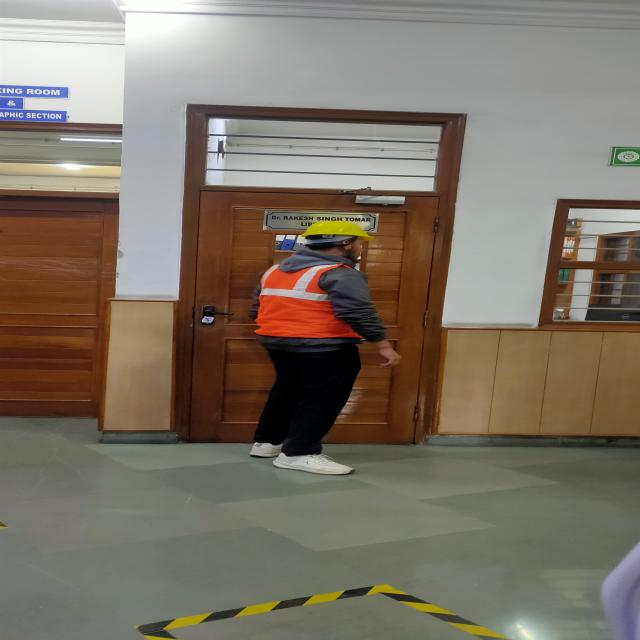safe: (251, 221, 401, 475)
